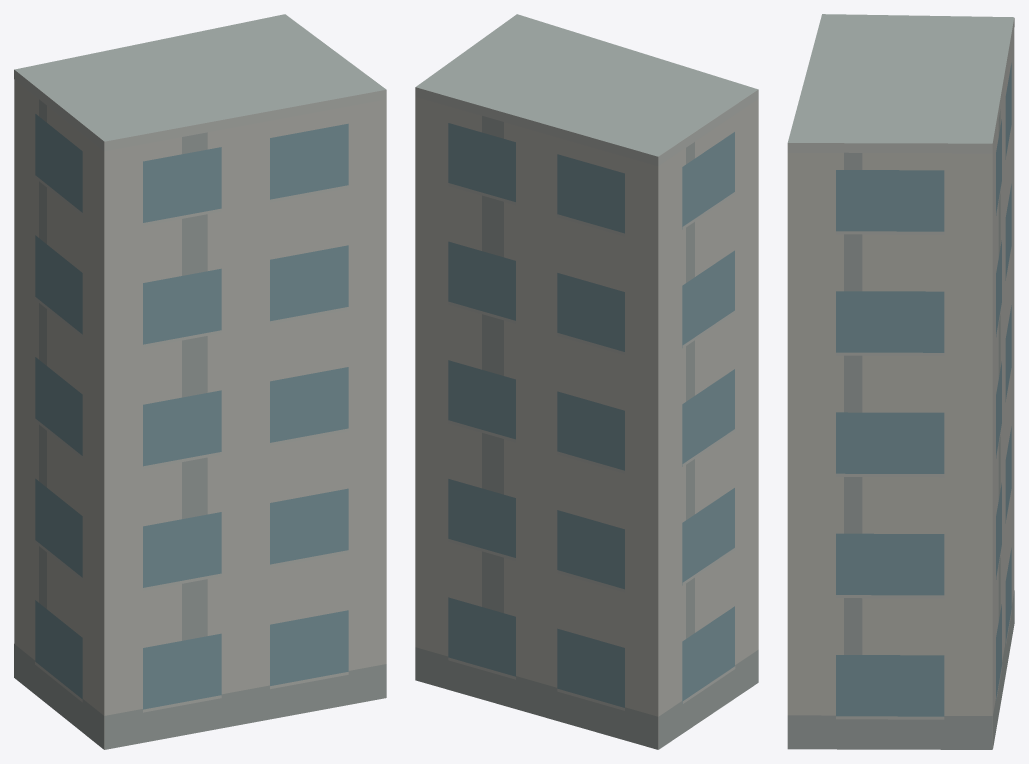
The model's file is survey-upis-32812379.glb.
The picture shows the model from 3 angles, left to right: view 1: azimuth 30°, elevation 25°; view 2: azimuth 150°, elevation 25°; view 3: azimuth 270°, elevation 25°; orthographic projection. The views are drawn at different scales.
Parts seen in each view (by area): view 1: survey-upis-32812379.tmp; view 2: survey-upis-32812379.tmp; view 3: survey-upis-32812379.tmp.
Boxes of the visible parts, bbox=[...] form: survey-upis-32812379.tmp: bbox=[14, 14, 386, 749]; survey-upis-32812379.tmp: bbox=[415, 14, 758, 749]; survey-upis-32812379.tmp: bbox=[787, 14, 1014, 749].
Bounding box in the file's own units: 7 × 15.25 × 5.18.
